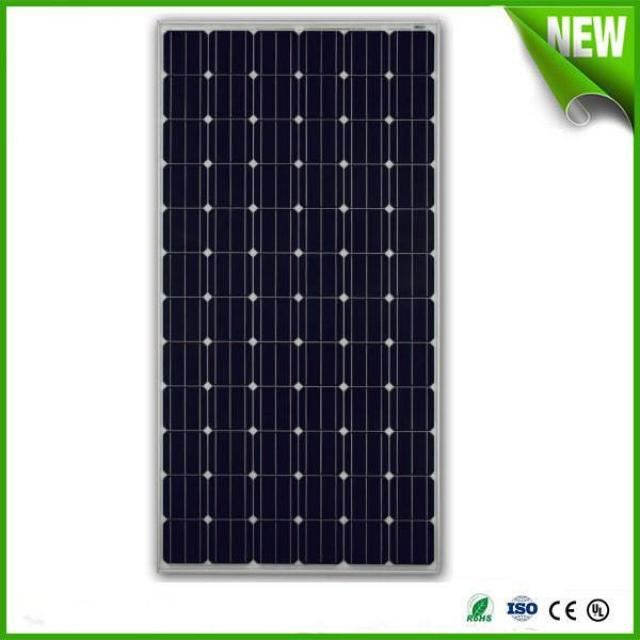clean-solar-panel: (162, 28, 435, 568)
